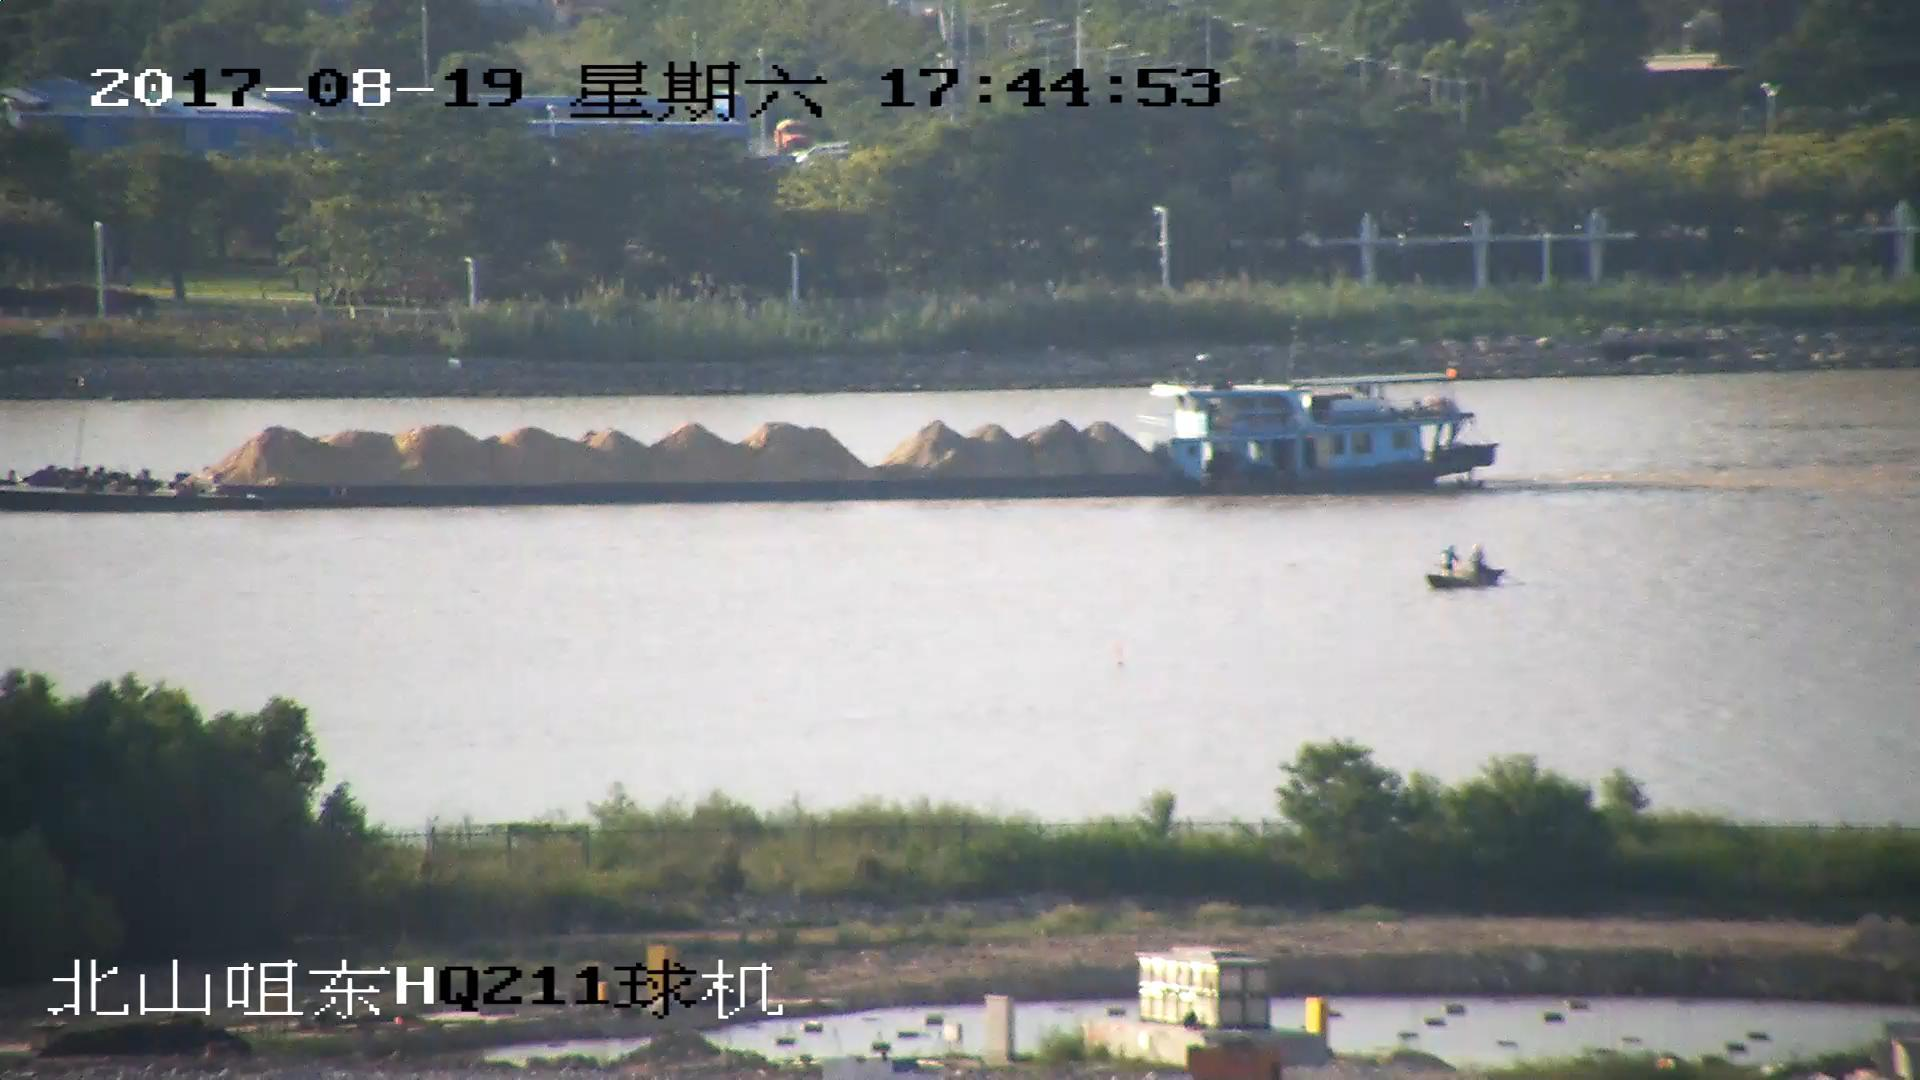Ship: (3, 353, 1507, 516), (1427, 545, 1509, 593)
